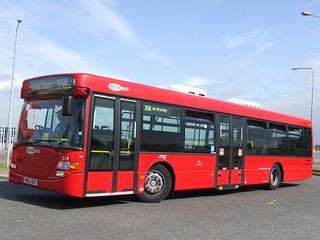bus: (8, 72, 314, 203)
